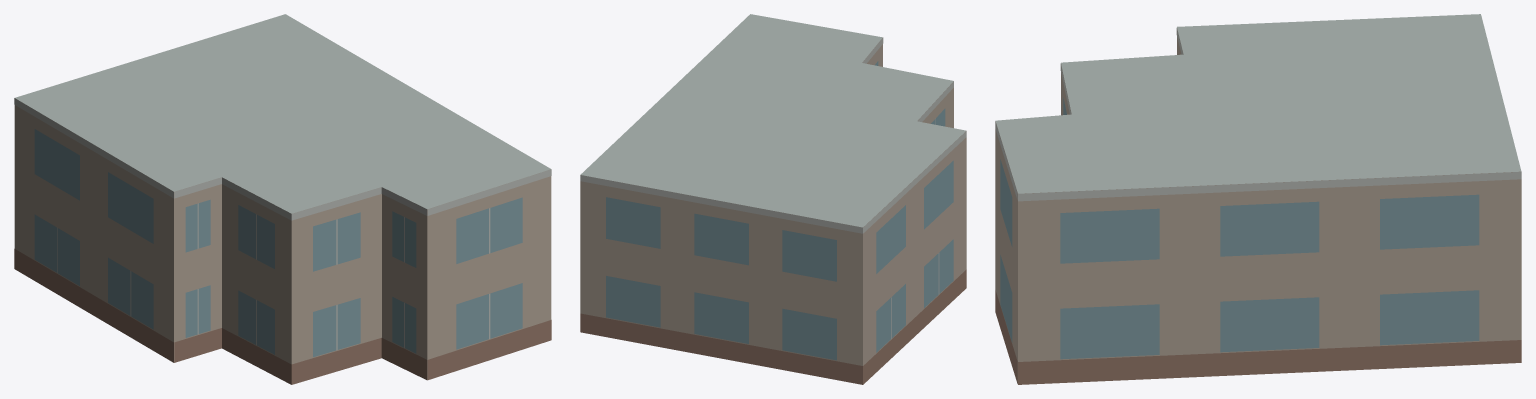
The model's file is survey-upis-32868032.glb.
The picture shows the model from 3 angles, left to right: view 1: azimuth 30°, elevation 25°; view 2: azimuth 150°, elevation 25°; view 3: azimuth 270°, elevation 25°; orthographic projection. The views are drawn at different scales.
Parts seen in each view (by area): view 1: survey-upis-32868032.tmp; view 2: survey-upis-32868032.tmp; view 3: survey-upis-32868032.tmp.
Part boxes in pixels (x1,y1,x2,y2): survey-upis-32868032.tmp: (14, 14, 551, 384); survey-upis-32868032.tmp: (580, 14, 966, 384); survey-upis-32868032.tmp: (995, 14, 1521, 384).
Bounding box in the file's own units: 12.31 × 6.1 × 15.23.
